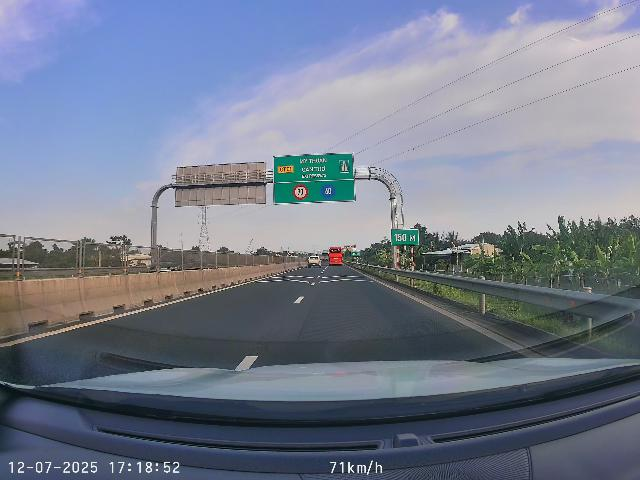127-toc-do-toi-da-90: (293, 184, 309, 200)
306-toc-do-toi-thieu-60: (321, 183, 336, 199)
437-bat-dau-duong-cao-toc: (339, 160, 349, 173)
